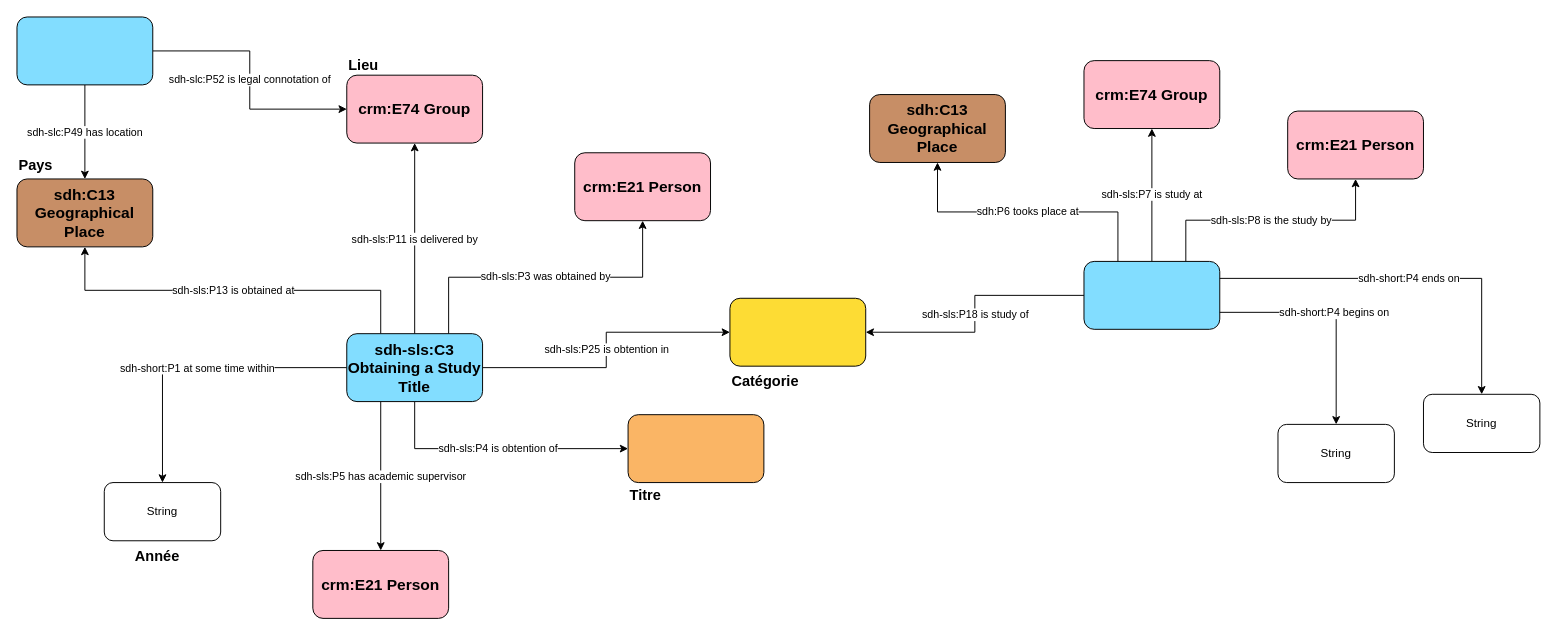
The diagram is 1557 pixels wide and 635 high, and some of its shapes have lost their labels. The shapes that lost their labels are listed below. From the top down, each one's centre as x and y in pixels, then its label:
pixel 84 50: sdh-slc:C28 Legal Location of an Actor
pixel 1151 294: sdh-sls:C6 Study
pixel 797 331: sdh-sls:C5 Academic Discipline
pixel 695 448: sdh-sls:C4 Study Title
